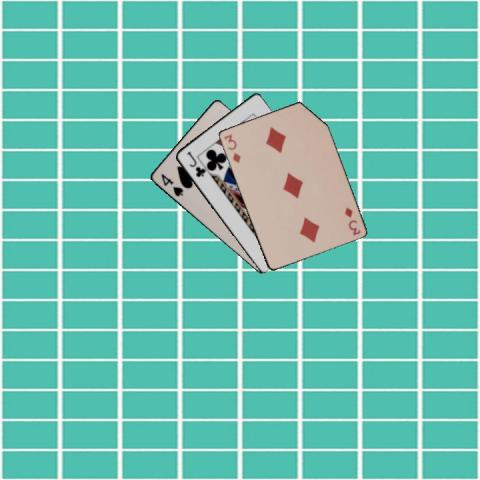3d: (221, 131, 242, 165), (342, 204, 362, 237)
4s: (157, 171, 184, 198)
Jc: (183, 148, 206, 178)
